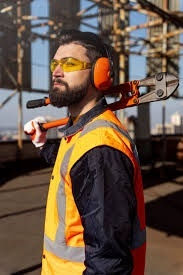safety_goggles: (36, 54, 103, 77)
